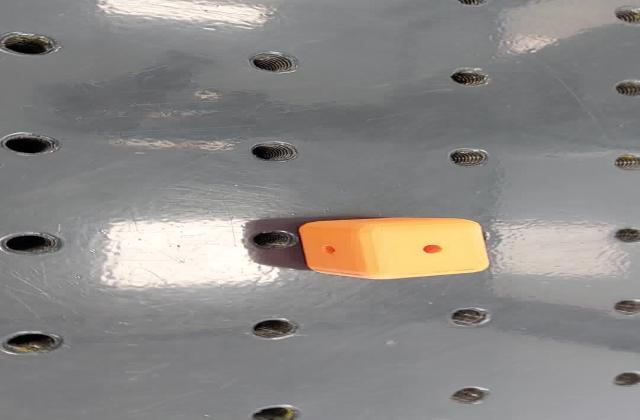cube: (292, 214, 496, 284)
